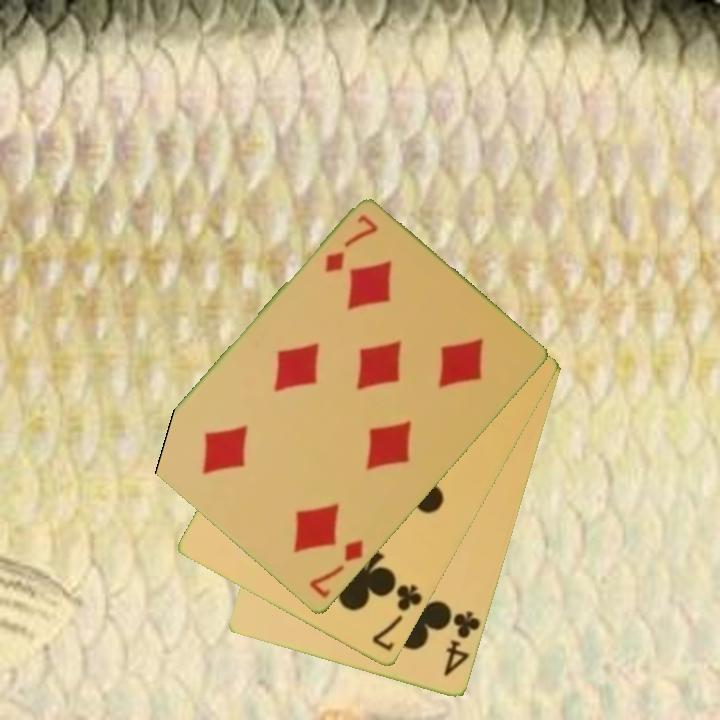4c: (440, 607, 484, 680)
7c: (368, 581, 426, 655)
7d: (305, 536, 367, 602), (321, 211, 381, 276)
